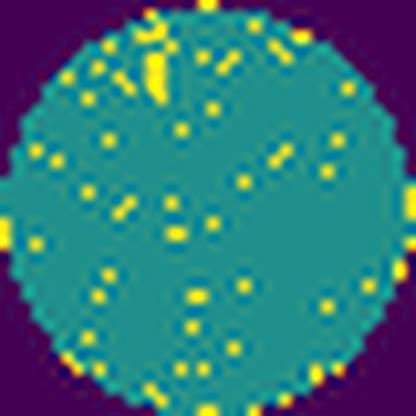Loc: (142, 56, 170, 104)
